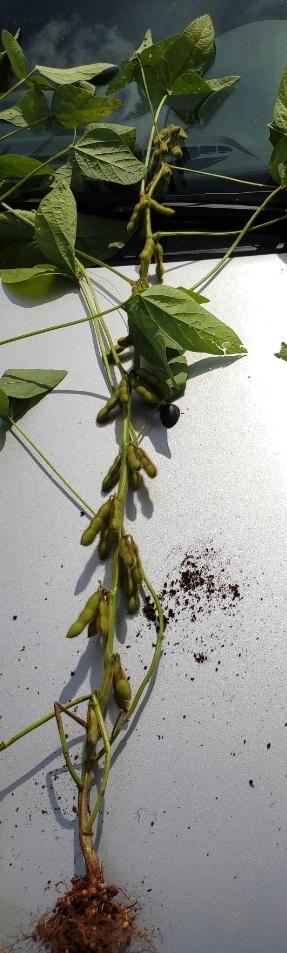soja: (63, 586, 100, 637), (77, 500, 113, 546), (136, 356, 172, 399), (104, 657, 136, 701), (129, 382, 166, 420), (119, 578, 154, 616), (113, 535, 153, 567), (93, 455, 122, 499), (153, 244, 185, 283), (142, 186, 177, 220), (78, 701, 102, 739), (94, 602, 118, 639), (138, 444, 160, 483), (120, 437, 141, 475), (130, 547, 152, 583), (149, 122, 178, 149), (98, 342, 128, 367), (98, 531, 122, 562), (163, 145, 188, 170), (111, 372, 131, 403), (125, 202, 143, 235), (110, 687, 127, 721), (100, 394, 117, 427), (132, 241, 159, 260), (133, 187, 150, 212), (152, 144, 170, 155)
